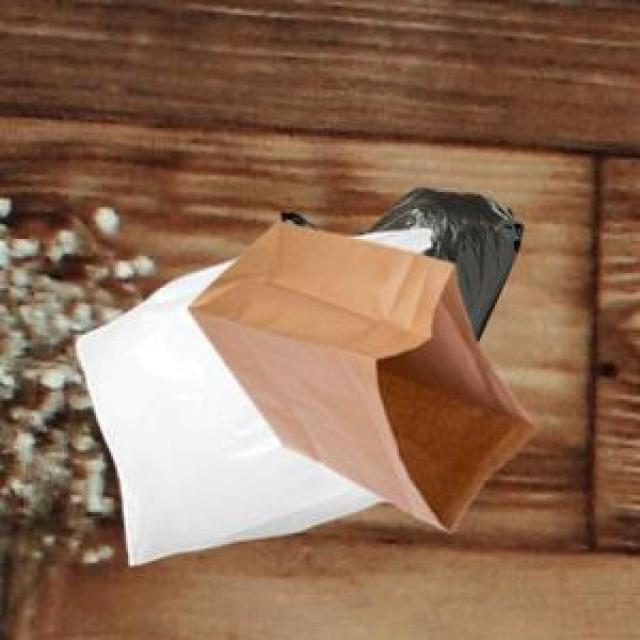miscellaneous trash: (277, 184, 518, 337)
paper: (184, 218, 533, 527)
